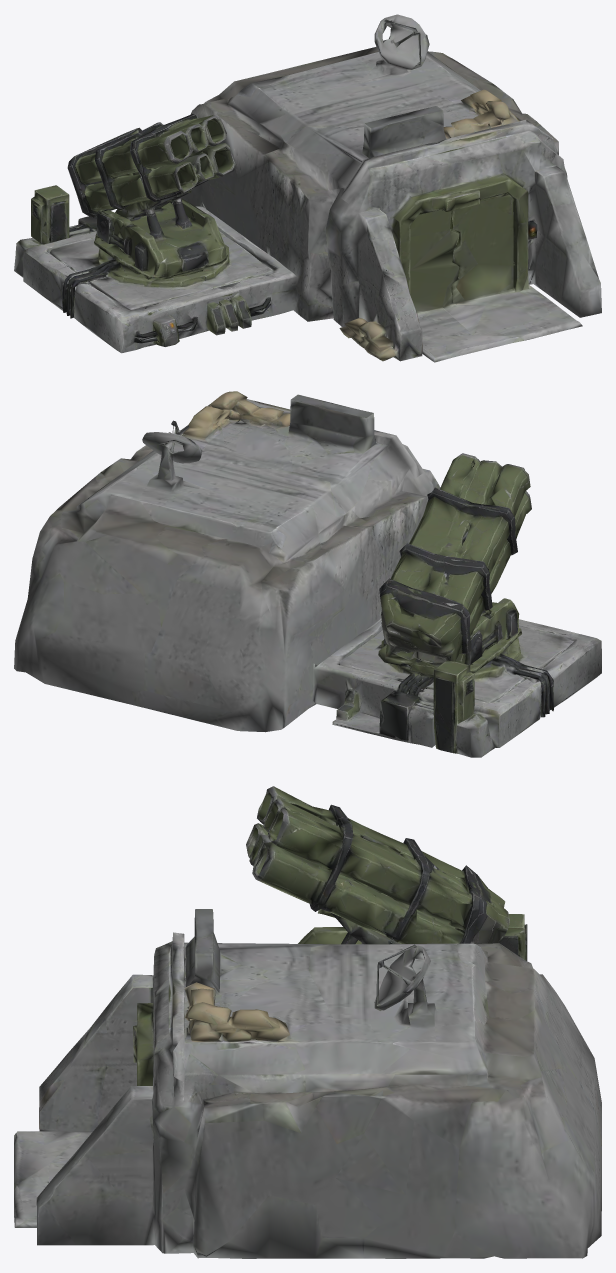
Rendered from joint-apron.glb.
The picture shows the model from 3 angles, top to bottom: view 1: azimuth 30°, elevation 25°; view 2: azimuth 150°, elevation 25°; view 3: azimuth 270°, elevation 25°; orthographic projection. The views are drawn at different scales.
Size of the model in its own units: 1.9 by 0.8604 by 1.77.
Materials: 1 (1 with a texture image).
